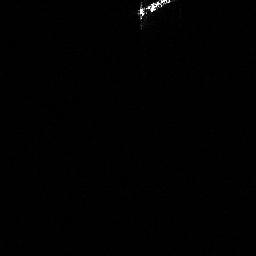ship: (134, 1, 176, 32)
